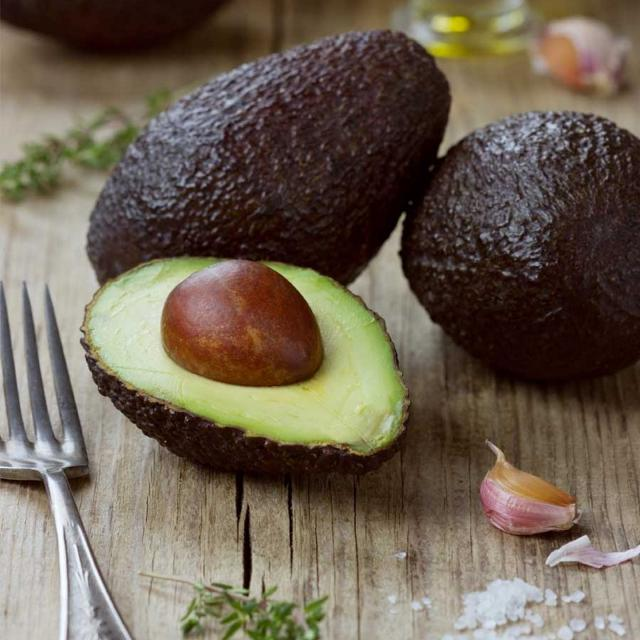avocado: (84, 31, 454, 301), (82, 255, 407, 471), (404, 115, 640, 381)
